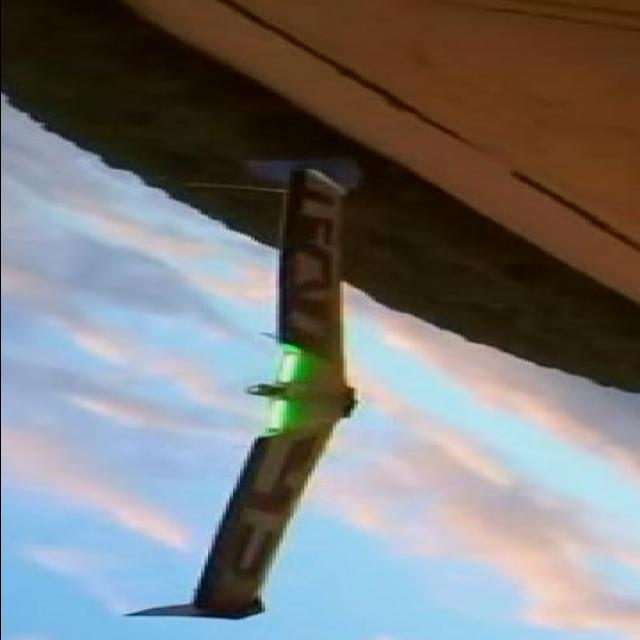plane: (118, 163, 360, 622)
